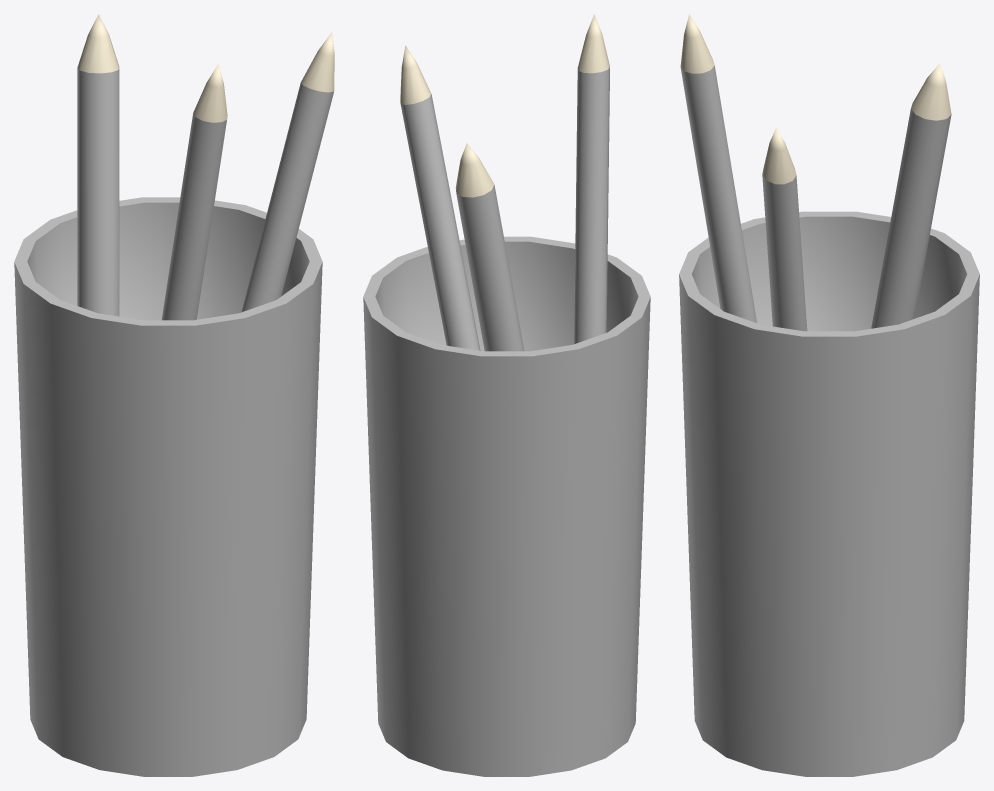
The model's file is pencil_pots_02.FBX.
3 renders of one model, left to right at view 1: azimuth 30°, elevation 25°; view 2: azimuth 150°, elevation 25°; view 3: azimuth 270°, elevation 25°, orthographic. The views are drawn at different scales.
Parts seen in each view (by area): view 1: Cylinder009; view 2: Cylinder009; view 3: Cylinder009.
Part boxes in pixels (bbox=[...]): Cylinder009: bbox=[14, 14, 334, 776]; Cylinder009: bbox=[363, 14, 650, 776]; Cylinder009: bbox=[679, 14, 979, 776].
Bounding box in the file's own units: 12.94 × 32.7 × 12.8.
